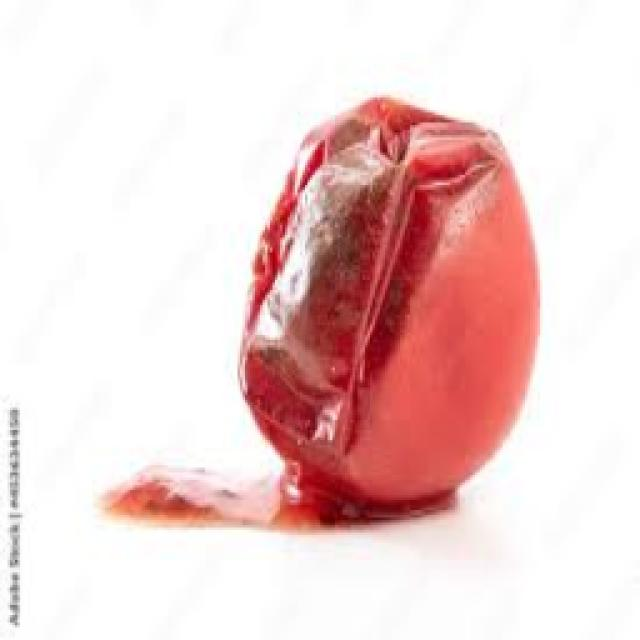overripe tomato: (203, 72, 562, 554)
